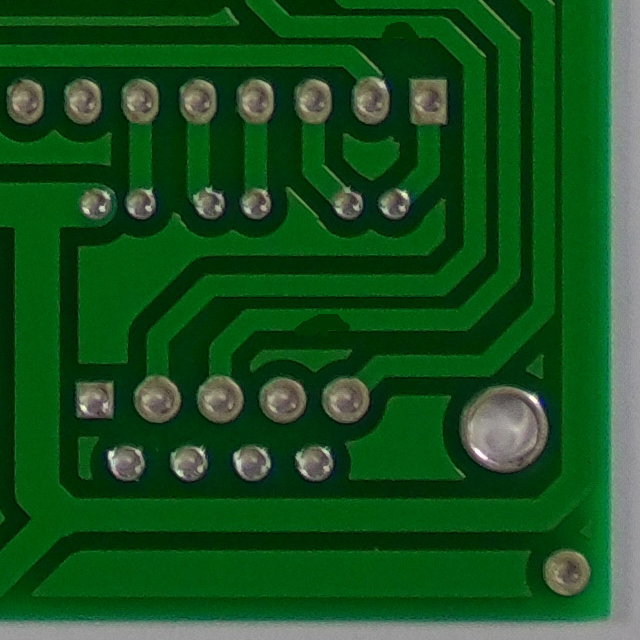mouse_bite: (279, 295, 362, 345), (366, 8, 429, 55)
